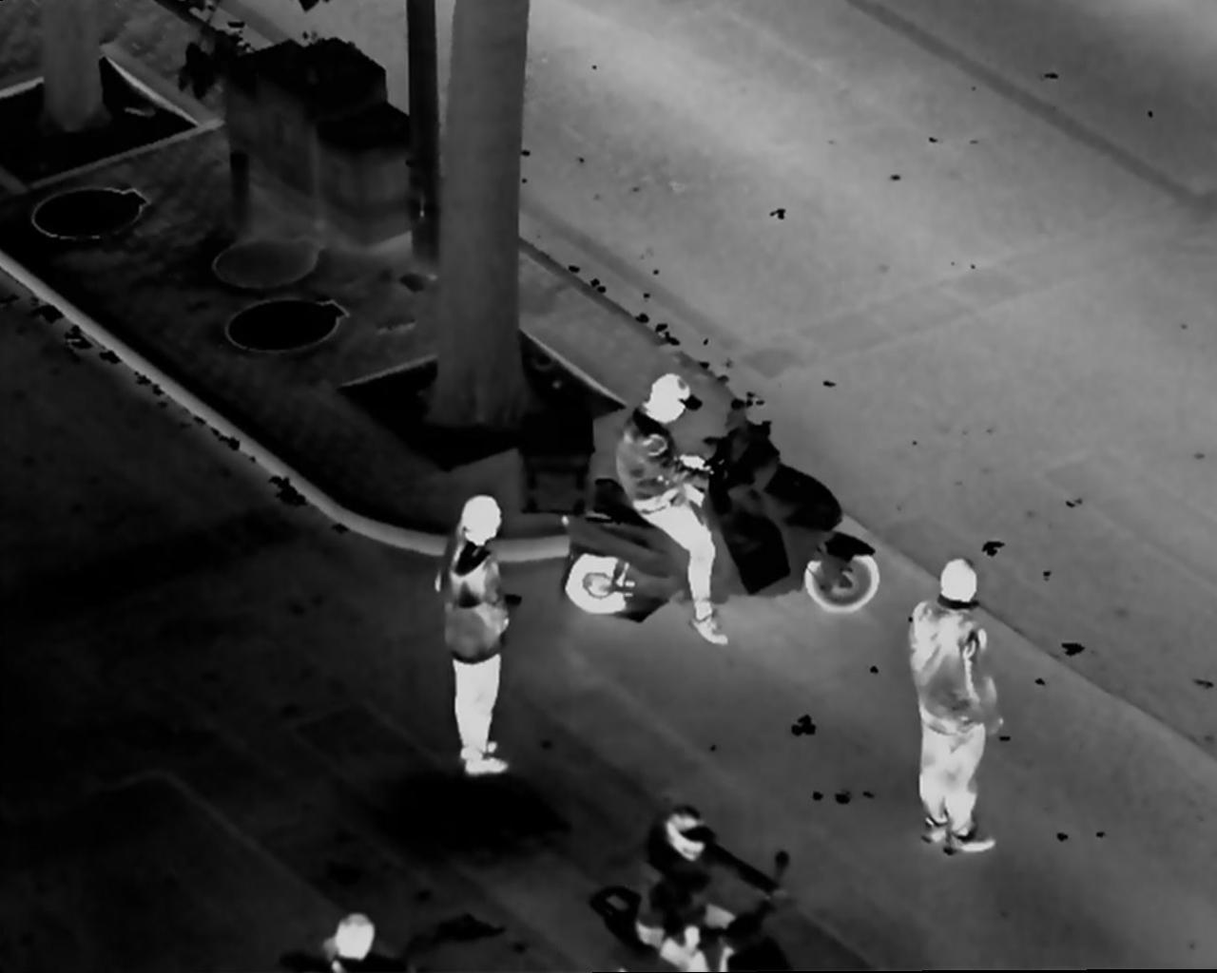person: (613, 365, 735, 655), (909, 546, 1014, 868), (428, 489, 519, 781), (628, 804, 768, 973), (316, 905, 383, 973)
